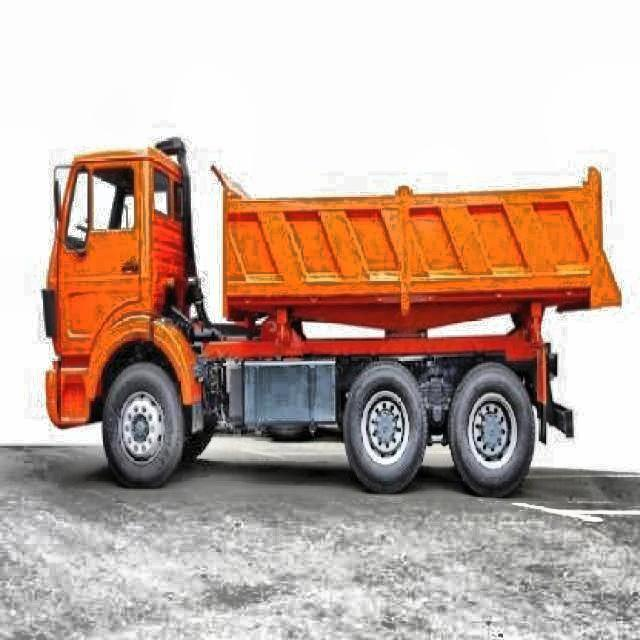dump_truck: (30, 132, 626, 503)
